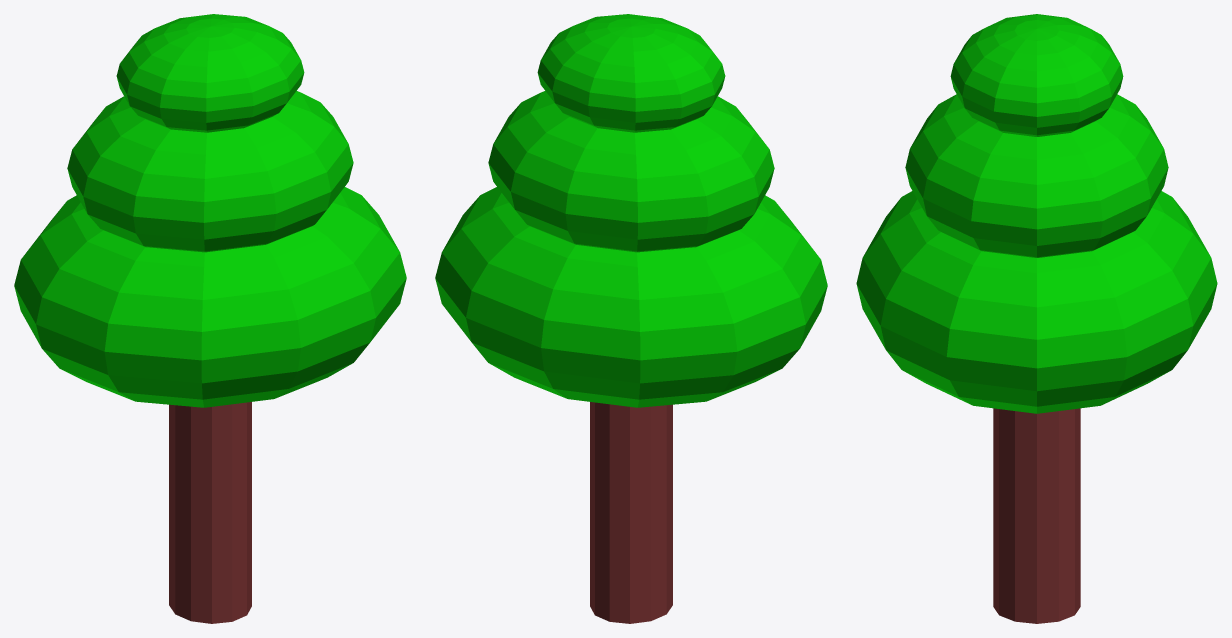
The model's file is tree.obj.
3 views of the same model, side by side, from view 1: azimuth 30°, elevation 25°; view 2: azimuth 150°, elevation 25°; view 3: azimuth 270°, elevation 25° (orthographic).
Parts seen in each view (by area): view 1: sphere0001, sphere0000, cylinder, sphere; view 2: sphere0001, sphere0000, cylinder, sphere; view 3: sphere0001, sphere0000, cylinder, sphere.
Part boxes in pixels (x1=…): sphere0001: x1=14, y1=187, x2=406, y2=407; sphere0000: x1=67, y1=91, x2=353, y2=252; cylinder: x1=169, y1=402, x2=251, y2=623; sphere: x1=116, y1=14, x2=304, y2=132; sphere0001: x1=435, y1=187, x2=827, y2=407; sphere0000: x1=488, y1=91, x2=774, y2=252; cylinder: x1=590, y1=402, x2=672, y2=623; sphere: x1=537, y1=14, x2=725, y2=132; sphere0001: x1=856, y1=191, x2=1217, y2=413; sphere0000: x1=905, y1=94, x2=1168, y2=257; cylinder: x1=993, y1=408, x2=1080, y2=623; sphere: x1=950, y1=14, x2=1123, y2=136.
Size of the model in its own units: 6.44 by 10.22 by 5.78.
